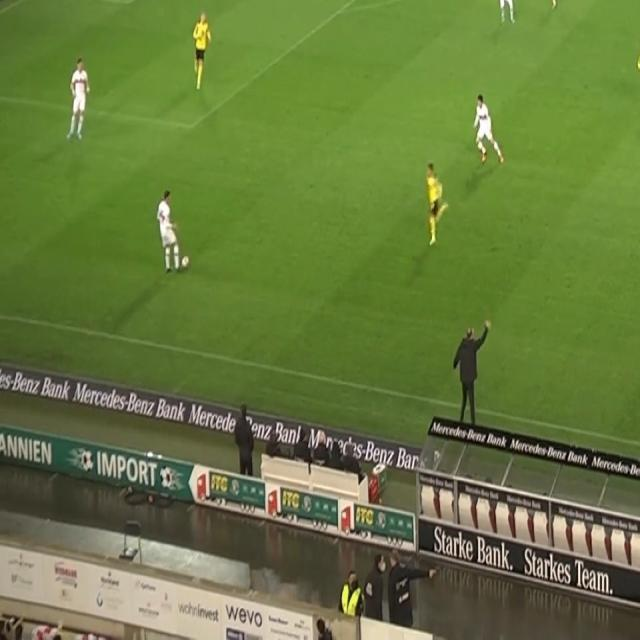ball: (181, 254, 190, 270)
